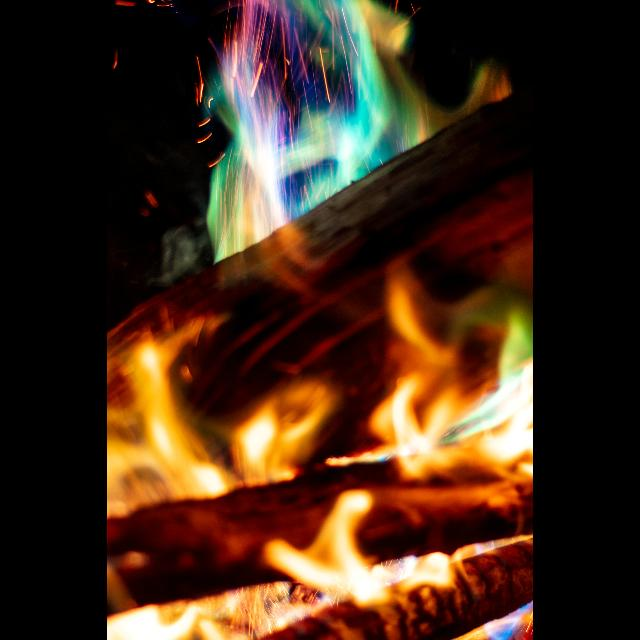fire: (107, 490, 484, 640), (107, 342, 334, 518), (359, 282, 534, 480)
